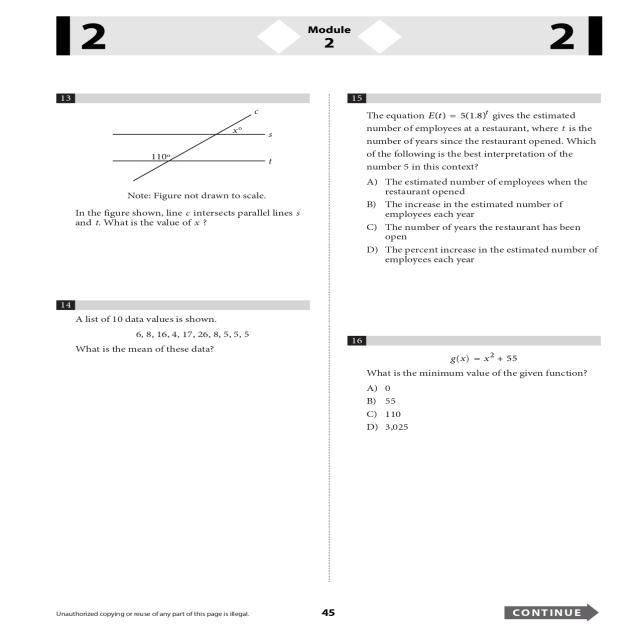Answer_Block: (336, 174, 606, 276), (336, 383, 606, 435)
Question_Answer_Block: (336, 88, 606, 276), (45, 88, 322, 240), (336, 332, 606, 435), (45, 296, 322, 366)
Question_Block: (45, 88, 322, 240), (336, 88, 606, 172), (45, 296, 322, 366), (336, 332, 606, 382)
Question_Paper_Area: (45, 88, 322, 580), (336, 88, 606, 580)
